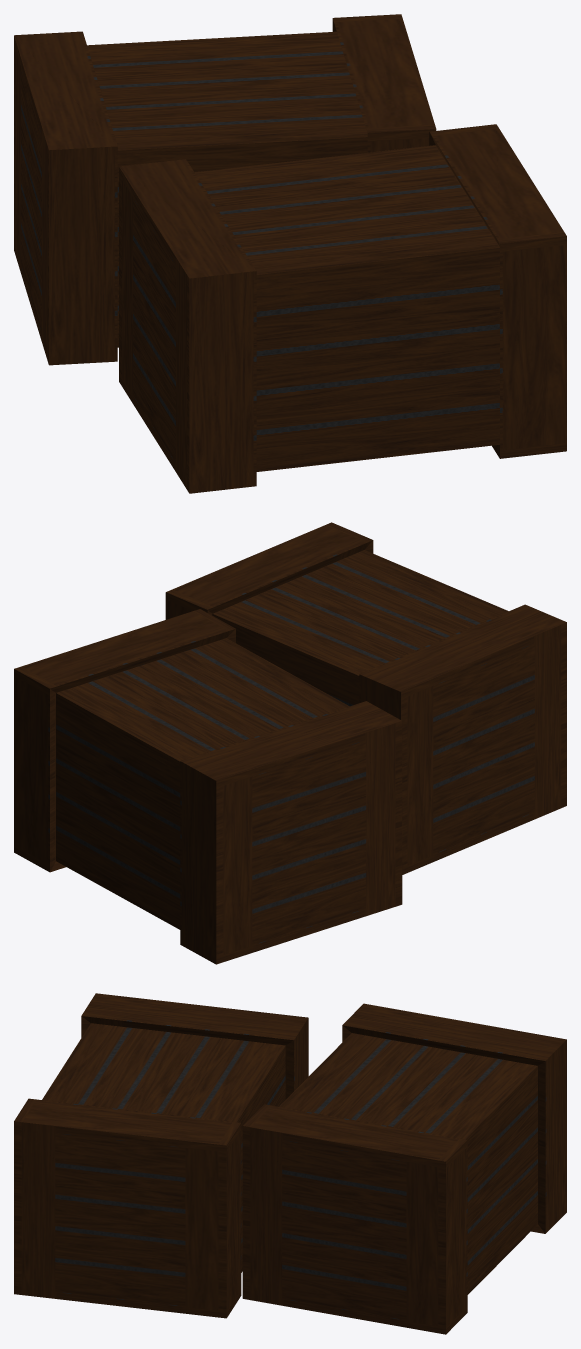
The model's file is boxes1.obj.
3 views of the same model, one above another, from view 1: azimuth 30°, elevation 25°; view 2: azimuth 150°, elevation 25°; view 3: azimuth 270°, elevation 25° (orthographic). The views are drawn at different scales.
Parts seen in each view (by area): view 1: box_lowp.001, box_lowp.002; view 2: box_lowp.002, box_lowp.001; view 3: box_lowp.002, box_lowp.001.
Part boxes in pixels (x1,y1,x2,y2): box_lowp.001: (119, 124, 566, 493); box_lowp.002: (14, 14, 436, 365); box_lowp.002: (14, 609, 402, 964); box_lowp.001: (165, 522, 566, 874); box_lowp.002: (242, 1003, 566, 1334); box_lowp.001: (14, 993, 308, 1318).
Bounding box in the file's own units: 2.34 × 1.12 × 3.25.
1 material, 1 textured.
